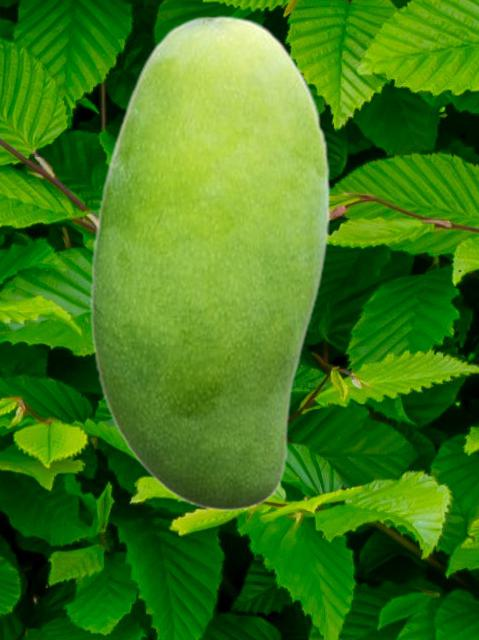green_mango: (89, 14, 330, 511)
